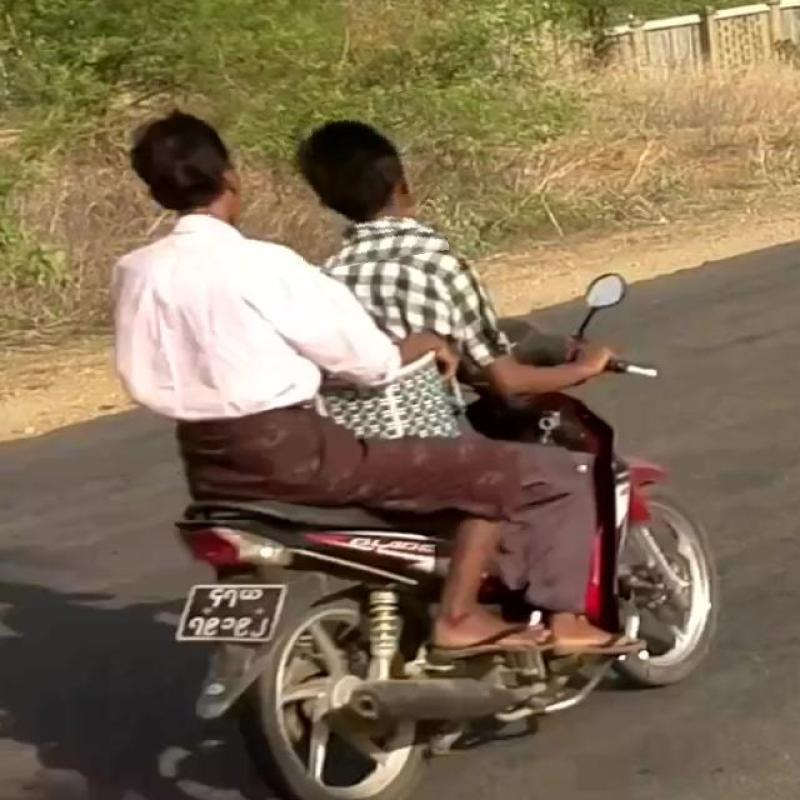nohelmet: (286, 94, 443, 268), (108, 78, 248, 217)
